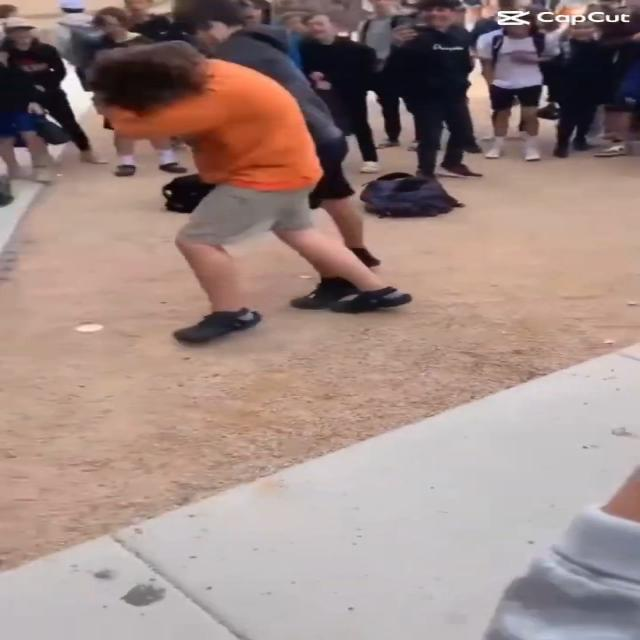fight: (86, 6, 414, 342)
